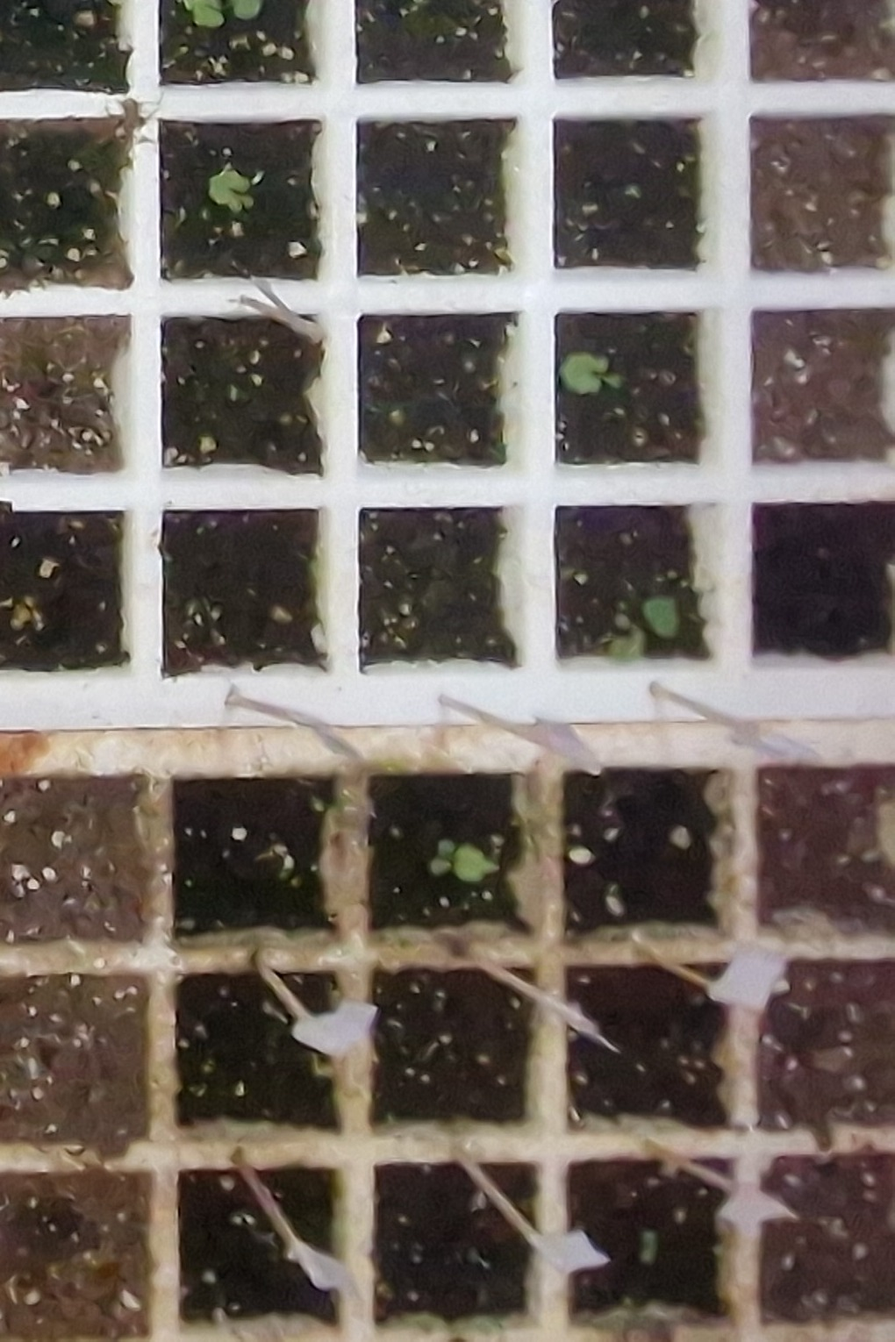Folha: (559, 352, 608, 394), (208, 170, 254, 213), (643, 598, 677, 638), (609, 627, 643, 658), (192, 0, 224, 28), (228, 0, 260, 18), (602, 374, 620, 388)
Germinacao: (611, 598, 681, 660), (558, 351, 620, 394), (208, 170, 254, 213), (192, 0, 261, 26)
